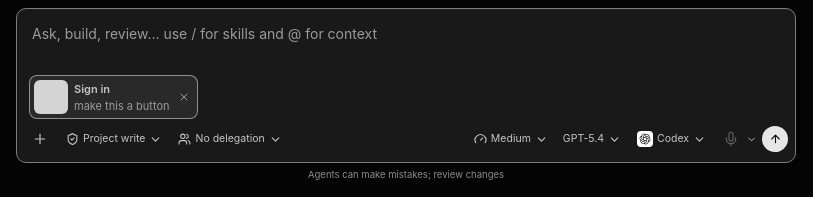
Scenario: browser annotation attachments › removes the folded screenshot with the annotation chip
Click the button named "Remove annotation Sign in" at (184, 97), box [176, 88, 194, 106]
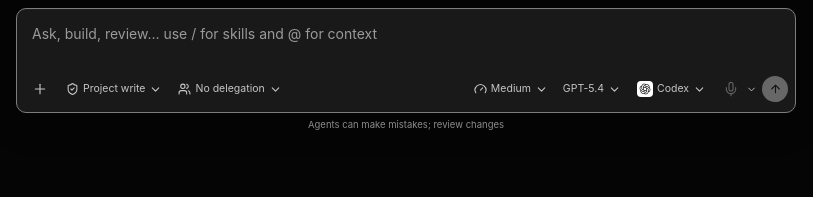
expect the text "Sign in" is gone: met
expect the text with alt text "Sign in" is gone: met
expect the button named "Send message" is disabled: met, box [762, 76, 788, 102]
